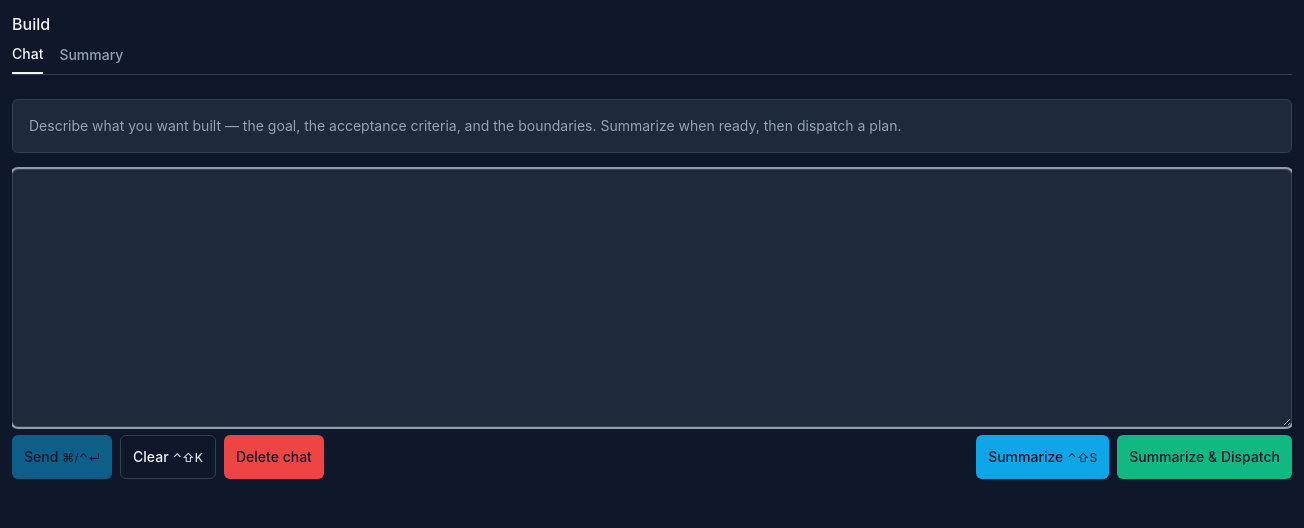
BuildChat › shows an alert when summarize fails
The image size is (1304, 528).
Click the button with test id "summarize-button": (1043, 457) left=976, top=435, right=1109, bottom=479
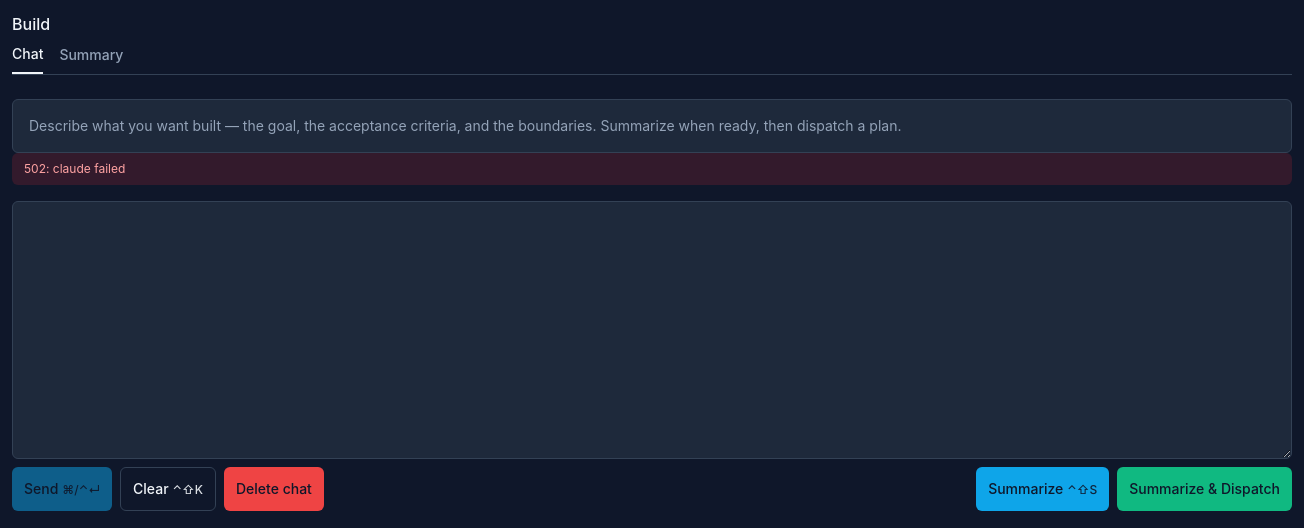
Expected: the message "502: claude failed" is shown, left=12, top=153, right=1292, bottom=185
